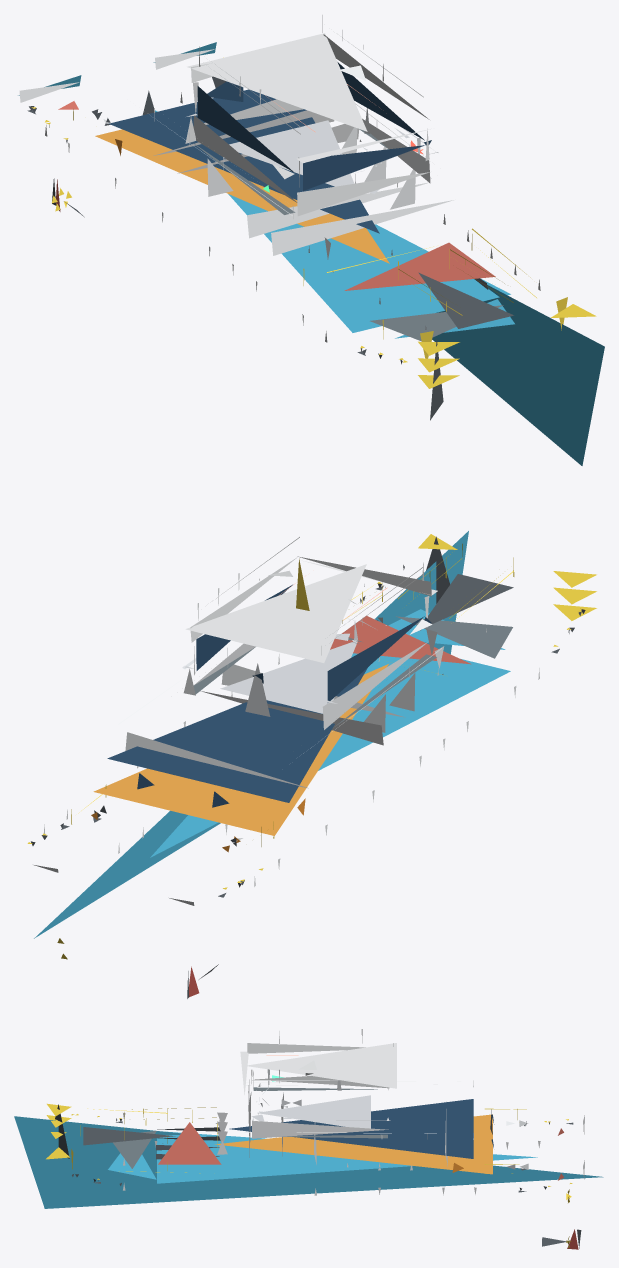
File: ship_04.glb
3 renders of one model, top to bottom at view 1: azimuth 30°, elevation 25°; view 2: azimuth 150°, elevation 25°; view 3: azimuth 270°, elevation 25°, orthographic. The views are drawn at different scales.
Parts seen in each view (by area): view 1: TrueHelm_Ship_04; view 2: TrueHelm_Ship_04; view 3: TrueHelm_Ship_04.
Part boxes in pixels (x1,y1,x2,y2): TrueHelm_Ship_04: (18, 15, 604, 465); TrueHelm_Ship_04: (27, 531, 596, 998); TrueHelm_Ship_04: (14, 1029, 603, 1249).
Size of the model in its own units: 0.1431 by 0.1914 by 0.5041.
